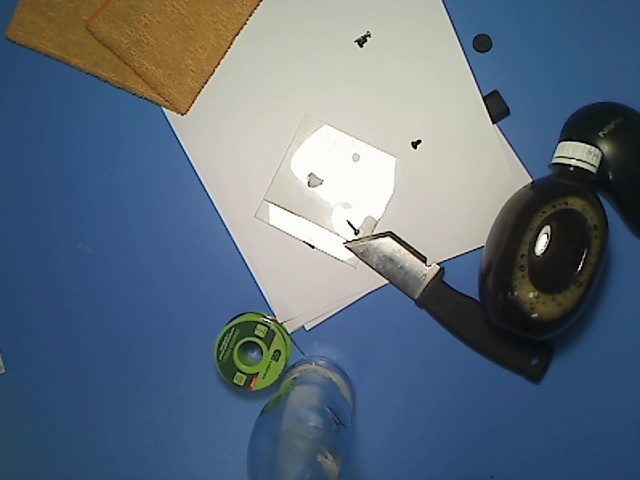plast_bottle: (471, 134, 626, 348)
